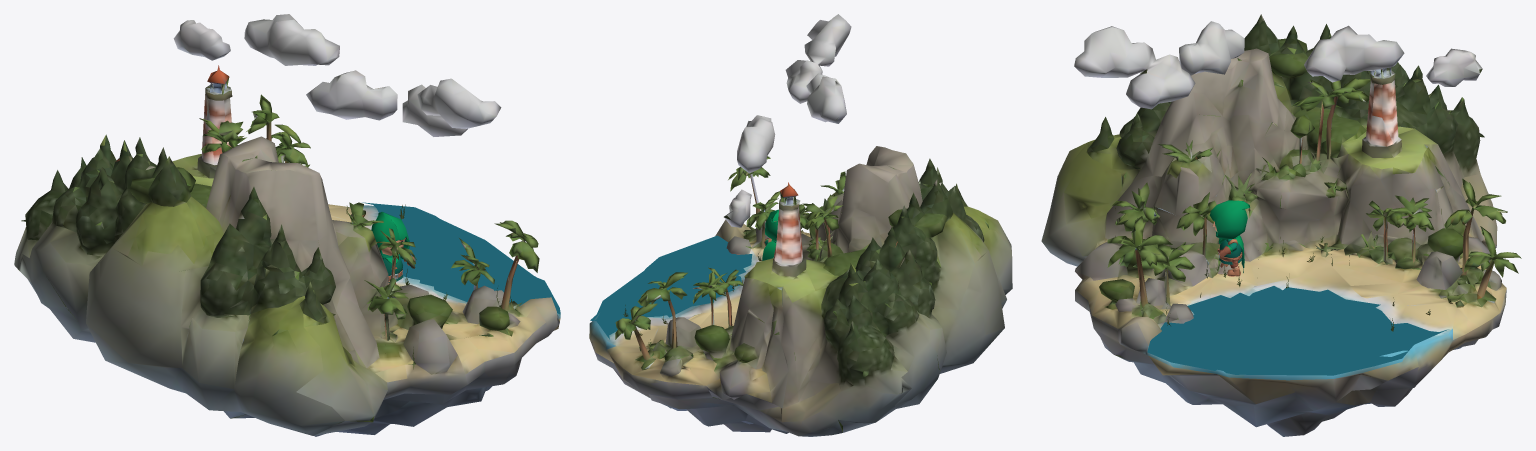
The picture shows the model from 3 angles, left to right: view 1: azimuth 30°, elevation 25°; view 2: azimuth 150°, elevation 25°; view 3: azimuth 270°, elevation 25°; orthographic projection. The views are drawn at different scales.
Parts seen in each view (by area): view 1: Skybound Island · conserved original scene, Downloaded animated lagoon water, Distant coastal scenery; view 2: Skybound Island · conserved original scene, Downloaded animated lagoon water, Distant coastal scenery; view 3: Skybound Island · conserved original scene, Downloaded animated lagoon water, Distant coastal scenery.
Part boxes in pixels (x1=…): Skybound Island · conserved original scene: x1=14, y1=14, x2=560, y2=436; Downloaded animated lagoon water: x1=362, y1=202, x2=560, y2=314; Distant coastal scenery: x1=346, y1=204, x2=511, y2=369; Skybound Island · conserved original scene: x1=589, y1=14, x2=1012, y2=436; Downloaded animated lagoon water: x1=590, y1=235, x2=752, y2=339; Distant coastal scenery: x1=623, y1=209, x2=778, y2=346; Skybound Island · conserved original scene: x1=1041, y1=14, x2=1521, y2=436; Downloaded animated lagoon water: x1=1147, y1=286, x2=1448, y2=375; Distant coastal scenery: x1=1115, y1=200, x2=1452, y2=331.
Size of the model in its own units: 10.16 by 9.41 by 10.33.
Materials: 2 (2 with a texture image).
